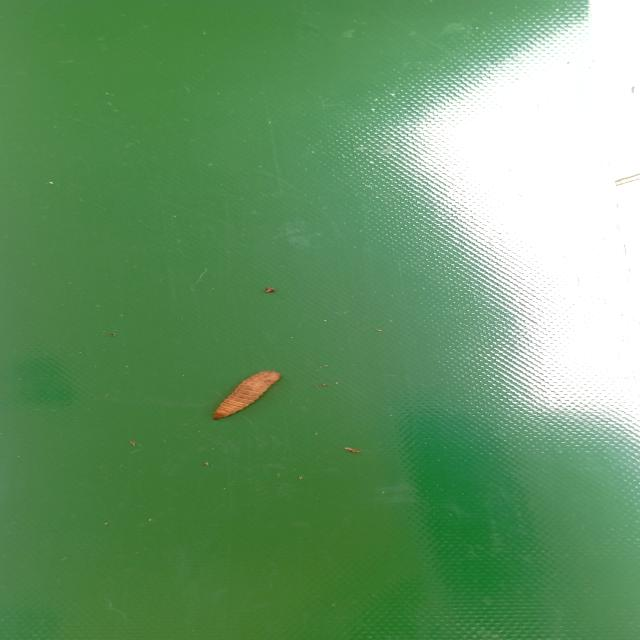Maggot: (212, 371, 281, 422)
